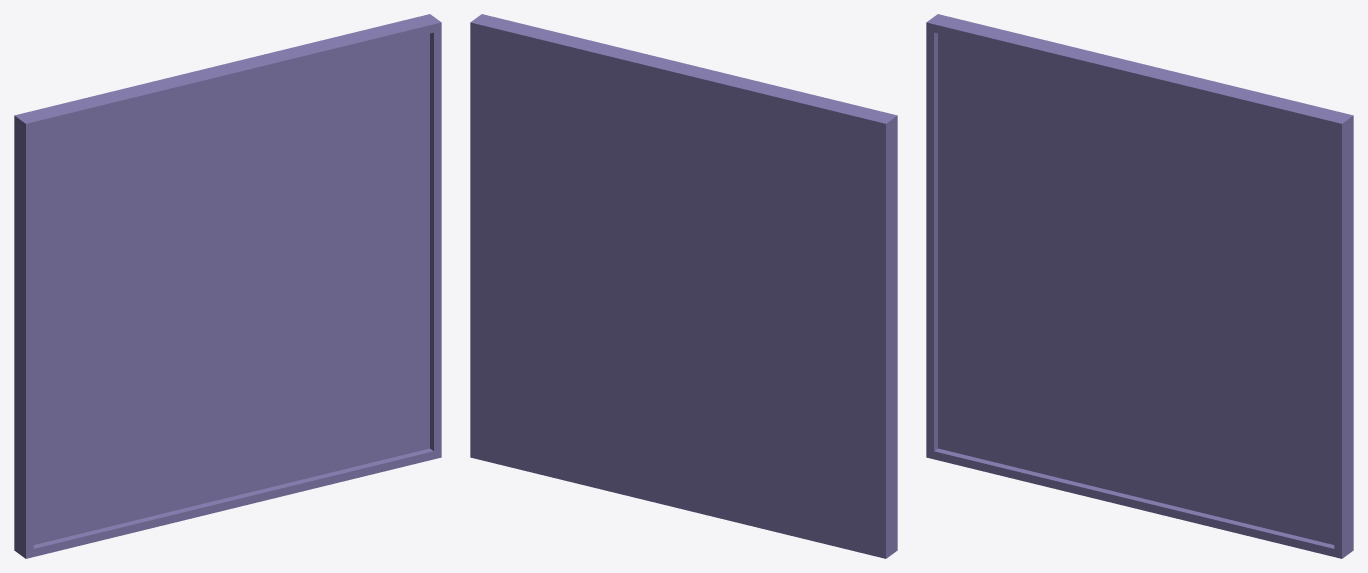
File: frame_purple.glb
The picture shows the model from 3 angles, left to right: view 1: azimuth 30°, elevation 25°; view 2: azimuth 150°, elevation 25°; view 3: azimuth 330°, elevation 25°; orthographic projection.
Parts seen in each view (by area): view 1: frame_purple; view 2: frame_purple; view 3: frame_purple.
Part boxes in pixels (box(x1,y1,x2,y2)): frame_purple: box(14, 14, 441, 558); frame_purple: box(470, 14, 897, 558); frame_purple: box(926, 14, 1353, 558).
Size of the model in its own units: 2.08 by 2.08 by 0.1.
1 material, 1 textured.
